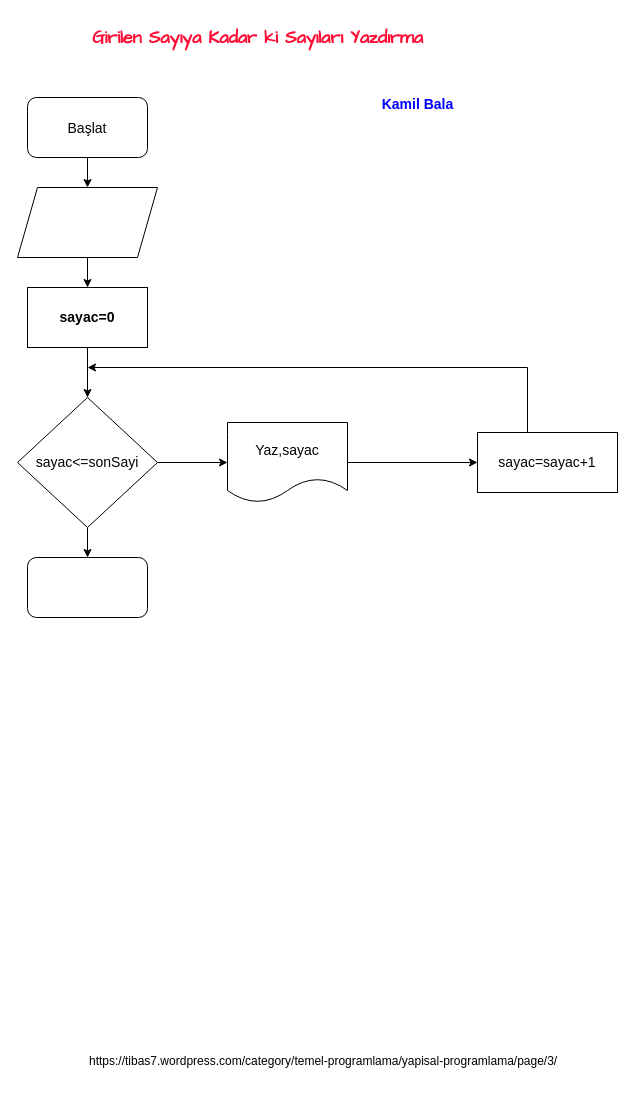
Some shapes in this 635 by 1104 pixel diagram are drawn without their labels. The centre of each missing label's shape, as x and y in pixels:
"Kaç adet sayı yazalım", sonSayi: (x=87, y=222)
Bitir: (x=87, y=587)
